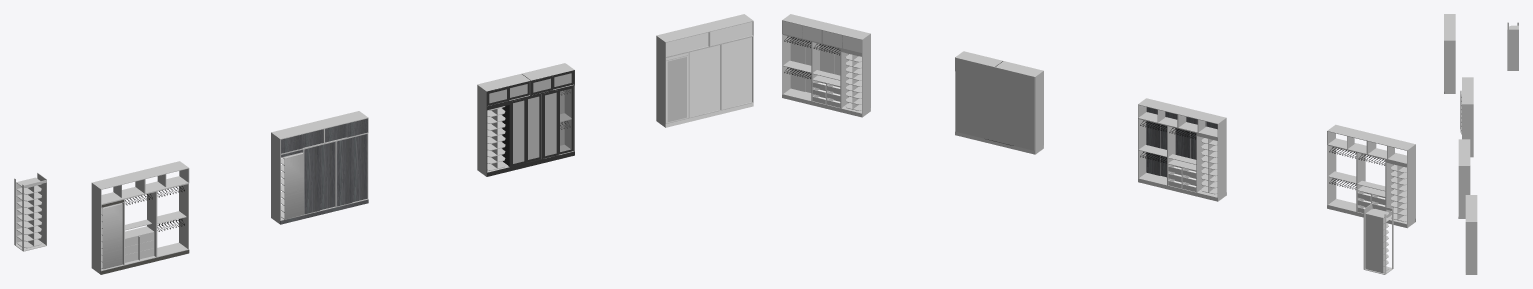
File: ropero.glb
The picture shows the model from 3 angles, left to right: view 1: azimuth 30°, elevation 25°; view 2: azimuth 150°, elevation 25°; view 3: azimuth 270°, elevation 25°; orthographic projection. The views are drawn at different scales.
Visible parts, largest first — view 1: root; view 2: root; view 3: root.
Part boxes in pixels (<box>): root: <box>14,14,753,274</box>; root: <box>782,14,1415,274</box>; root: <box>1444,14,1518,274</box>.
Size of the model in its own units: 23.69 by 3.03 by 3.55.
12 materials, 6 textured.
